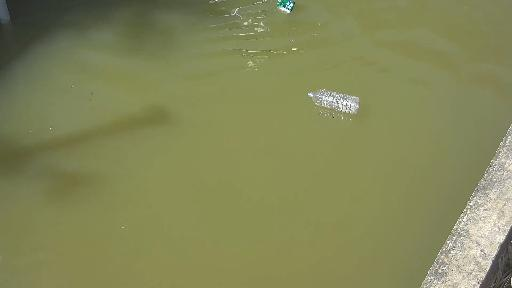plastic: (300, 82, 366, 128), (263, 0, 307, 25)
